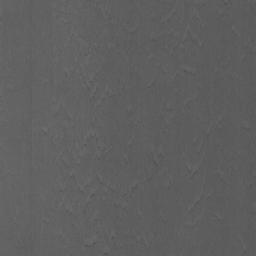Silk spot: (152, 153, 164, 167)
